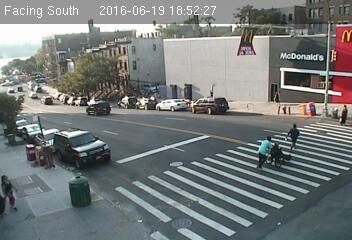neg: (161, 90, 180, 115), (38, 153, 56, 176), (183, 84, 196, 102), (78, 183, 90, 200), (205, 83, 215, 97)
pos: (283, 123, 305, 154), (272, 90, 286, 108), (339, 102, 351, 122)
